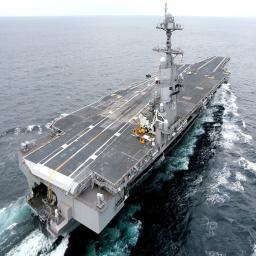Portanaves: (16, 2, 234, 245)
